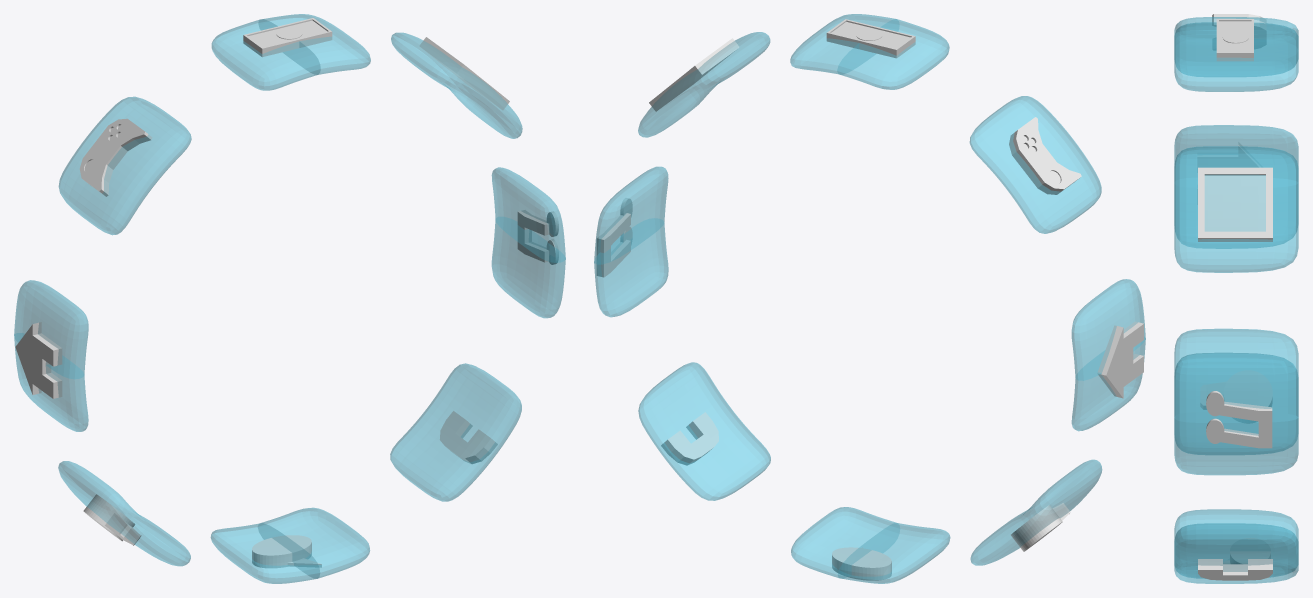
File: icon-menu.glb
The picture shows the model from 3 angles, left to right: view 1: azimuth 30°, elevation 25°; view 2: azimuth 150°, elevation 25°; view 3: azimuth 270°, elevation 25°; orthographic projection.
Visible parts, largest first — view 1: call, game, music, message, home, money, reminder, square, Cylinder.009, Cube.010, Cube.005, Cube.007 (+4 smaller); view 2: call, game, music, message, home, money, reminder, square, Cylinder.009, Cube.010, Cube.005, Cylinder.015 (+4 smaller); view 3: square, music, reminder, home, money, message, call, Cube.004, game, Cube.008, Cylinder.005, Cube.007 (+8 smaller).
Part boxes in pixels (left/top/right/bottom): call: left=390, top=363, right=521, bottom=501; game: left=58, top=96, right=191, bottom=235; music: left=491, top=167, right=565, bottom=318; message: left=210, top=507, right=369, bottom=583; home: left=14, top=280, right=88, bottom=431; money: left=211, top=14, right=370, bottom=90; reminder: left=58, top=461, right=190, bottom=566; square: left=391, top=32, right=522, bottom=138; Cylinder.009: left=79, top=118, right=152, bottom=196; Cube.010: left=15, top=322, right=62, bottom=398; Cube.005: left=243, top=18, right=332, bottom=56; Cube.007: left=440, top=411, right=497, bottom=463; call: left=638, top=362, right=770, bottom=500; game: left=969, top=96, right=1101, bottom=233; music: left=594, top=166, right=668, bottom=317; message: left=791, top=507, right=950, bottom=583; home: left=1071, top=279, right=1145, bottom=431; money: left=790, top=14, right=949, bottom=89; reminder: left=970, top=459, right=1102, bottom=565; square: left=638, top=32, right=770, bottom=137; Cylinder.009: left=1009, top=117, right=1081, bottom=194; Cube.010: left=1097, top=321, right=1143, bottom=398; Cube.005: left=826, top=19, right=915, bottom=58; Cylinder.015: left=832, top=547, right=891, bottom=580; square: left=1174, top=146, right=1298, bottom=272; music: left=1174, top=352, right=1298, bottom=475; reminder: left=1174, top=328, right=1298, bottom=454; home: left=1174, top=125, right=1298, bottom=248; money: left=1174, top=22, right=1298, bottom=91; message: left=1174, top=509, right=1298, bottom=578; call: left=1174, top=523, right=1298, bottom=583; Cube.004: left=1198, top=167, right=1272, bottom=241; game: left=1174, top=17, right=1298, bottom=76; Cube.008: left=1219, top=401, right=1272, bottom=448; Cylinder.005: left=1224, top=370, right=1272, bottom=422; Cube.007: left=1198, top=559, right=1272, bottom=580.
Size of the model in its own units: 0.2433 by 0.2419 by 0.0518.
